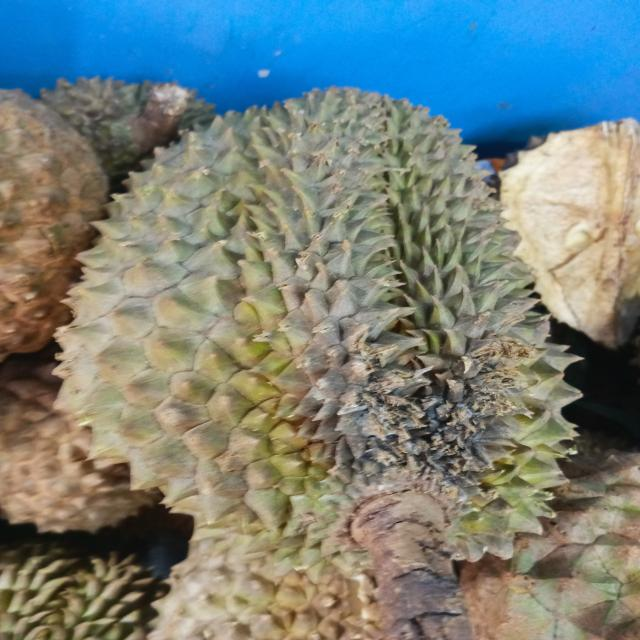mature: (55, 94, 539, 539), (461, 451, 640, 640), (0, 353, 171, 538), (0, 89, 108, 361)
